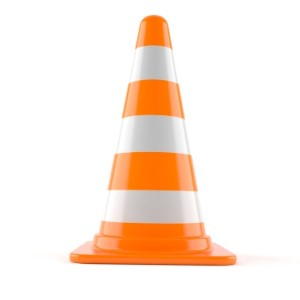traffic cone: (69, 15, 236, 265)
